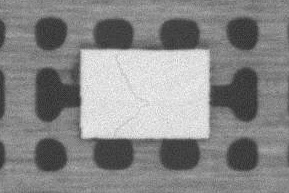DIE_CRACK: (112, 54, 149, 132)
